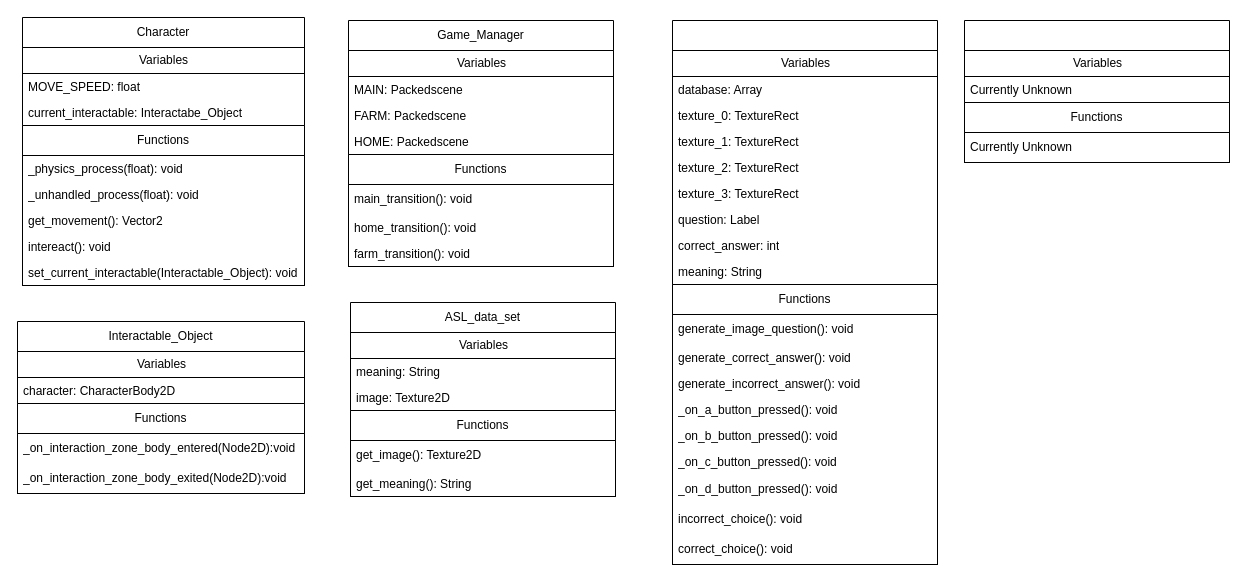
Some shapes in this 1247 by 582 pixel diagram are drawn without their labels. Here are the shapes that lost their labels. From the top down, the box of each, then its label:
(964, 20, 1230, 162): Signal_Hub
(672, 20, 938, 564): ASL_UI
